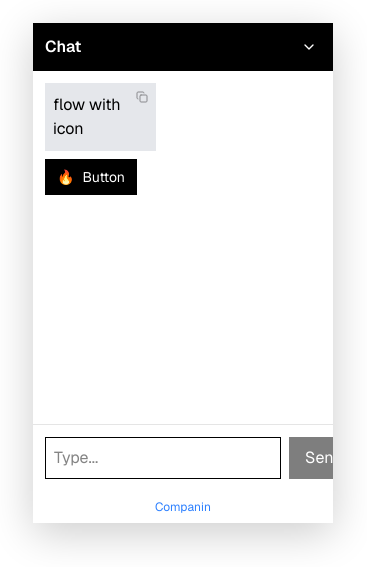
EmbedShell - logo and avatar › button click wrappers and input handling › flow buttons render icon and fallback to "Button" when label empty, disabling after click
Expected: the element with class "space-y-2" is shown, [45, 83, 156, 195]
# click disables the button
Click the button "🔥 Button" at coordinates (91, 177), box [45, 159, 137, 195]
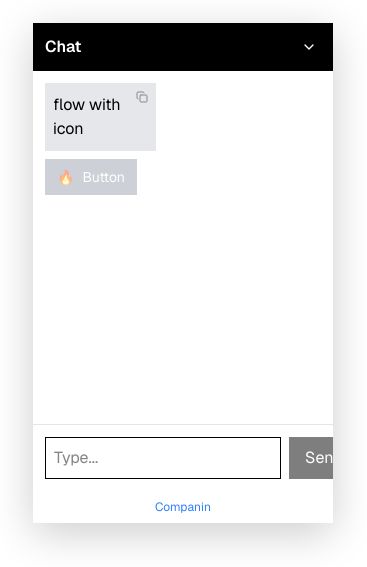
Now the button "🔥 Button" is disabled, box [45, 159, 137, 195]
